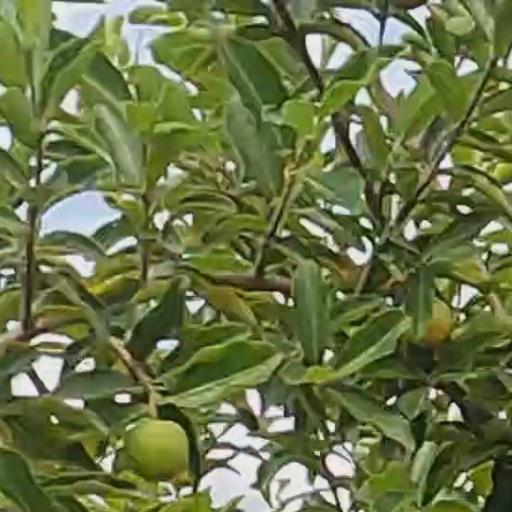acerola_verde: (124, 420, 187, 474)
